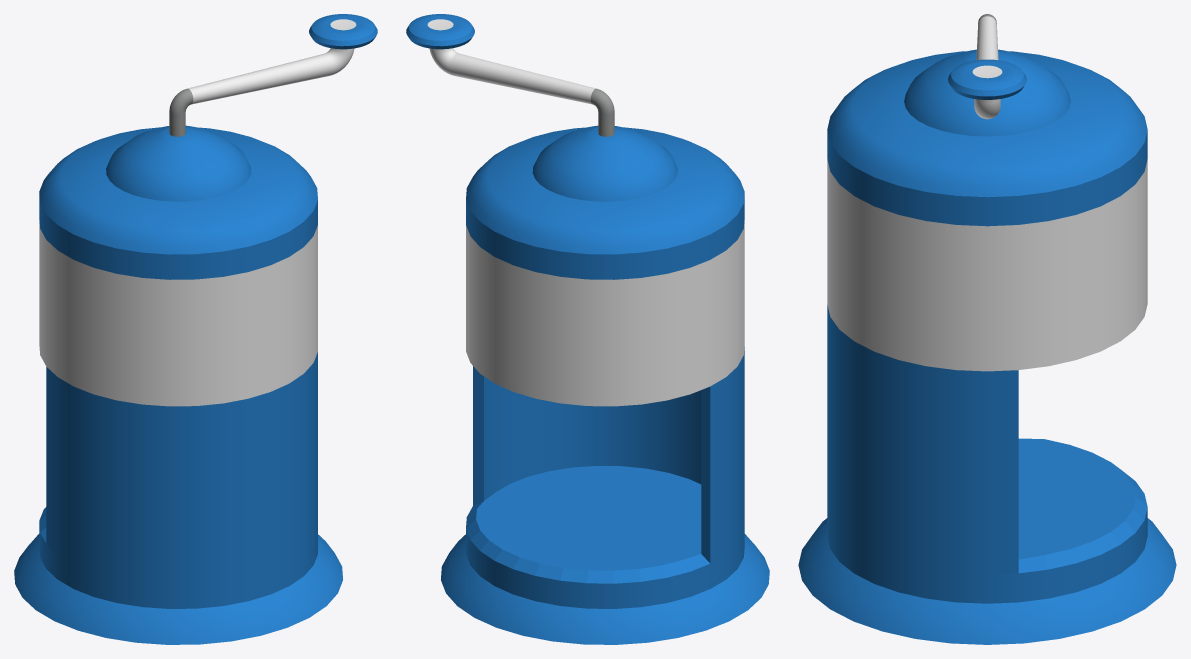
Rendered from IceCrusher.fbx.
3 renders of one model, left to right at view 1: azimuth 30°, elevation 25°; view 2: azimuth 150°, elevation 25°; view 3: azimuth 270°, elevation 25°, orthographic. The views are drawn at different scales.
Parts seen in each view (by area): view 1: Body, Cap, Handle; view 2: Body, Cap, Handle; view 3: Body, Cap, Handle.
Part boxes in pixels (left/top/right/bottom): Body: left=14, top=195, right=342, bottom=644; Cap: left=39, top=125, right=317, bottom=254; Handle: left=169, top=14, right=377, bottom=136; Body: left=441, top=195, right=769, bottom=644; Cap: left=466, top=125, right=744, bottom=254; Handle: left=406, top=14, right=614, bottom=136; Body: left=798, top=130, right=1176, bottom=644; Cap: left=827, top=49, right=1147, bottom=197; Handle: left=948, top=14, right=1026, bottom=119.
Bounding box in the file's own units: 279 × 404 × 236.
